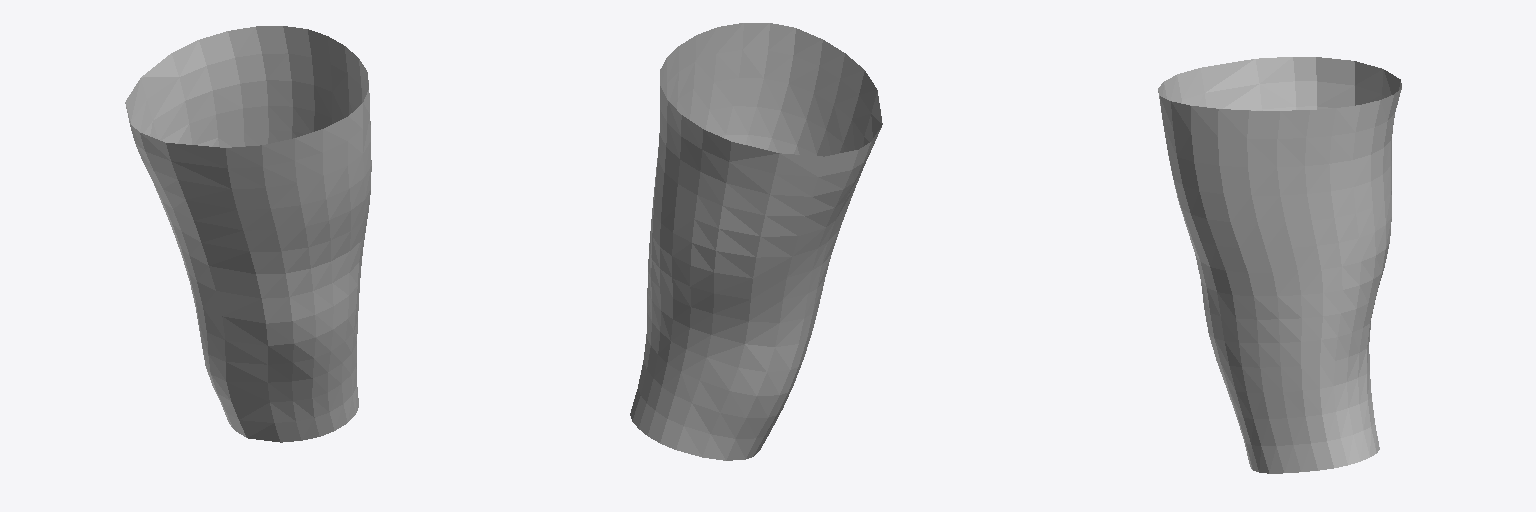
The model's file is LeftHip.obj.
The picture shows the model from 3 angles: view 1: azimuth 30°, elevation 25°; view 2: azimuth 150°, elevation 25°; view 3: azimuth 270°, elevation 25°; orthographic projection.
Visible parts, largest first — view 1: polySurface43 polySurface40 polySurface38 polySurface8 polySurfa; view 2: polySurface43 polySurface40 polySurface38 polySurface8 polySurfa; view 3: polySurface43 polySurface40 polySurface38 polySurface8 polySurfa.
Boxes of the visible parts, x1,y1,x2,y2 form: polySurface43 polySurface40 polySurface38 polySurface8 polySurfa: [125, 26, 371, 442]; polySurface43 polySurface40 polySurface38 polySurface8 polySurfa: [630, 23, 882, 460]; polySurface43 polySurface40 polySurface38 polySurface8 polySurfa: [1158, 57, 1401, 473].
Size of the model in its own units: 8.38 by 13.75 by 8.07.